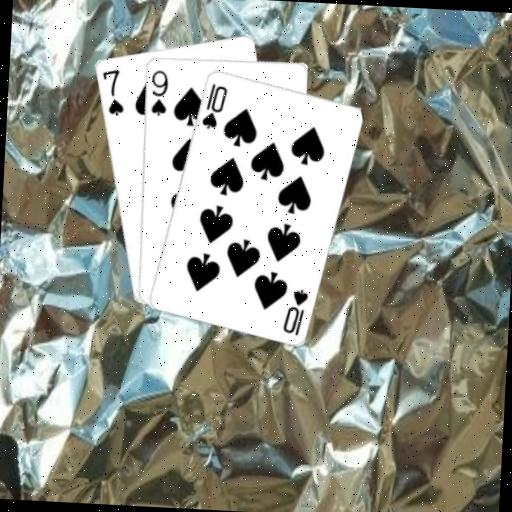10S: (198, 79, 229, 131), (279, 285, 310, 337)
7S: (97, 65, 127, 117)
9S: (146, 66, 171, 118)
